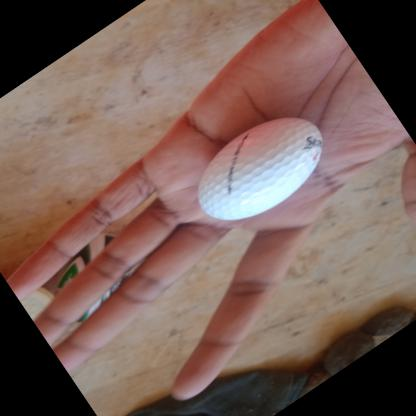Golf: (172, 94, 345, 247)
